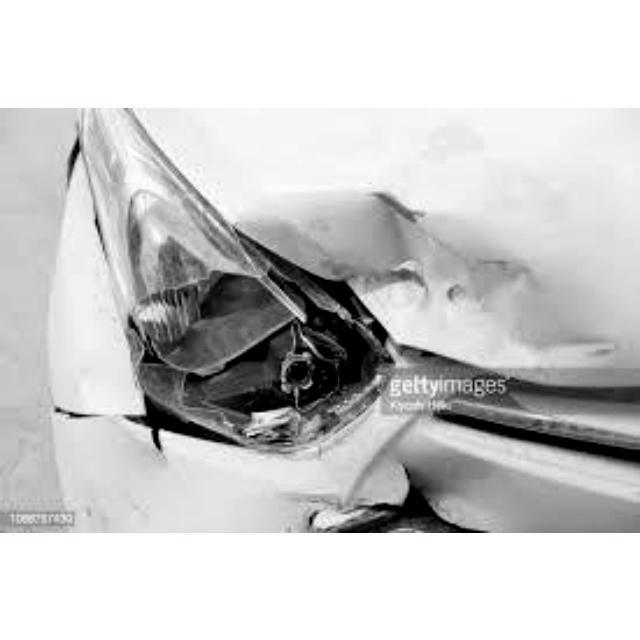Headlight-damage: (31, 192, 368, 445)
bonnet-dent: (227, 108, 638, 375)
front-bumper-dent: (22, 392, 545, 531)
